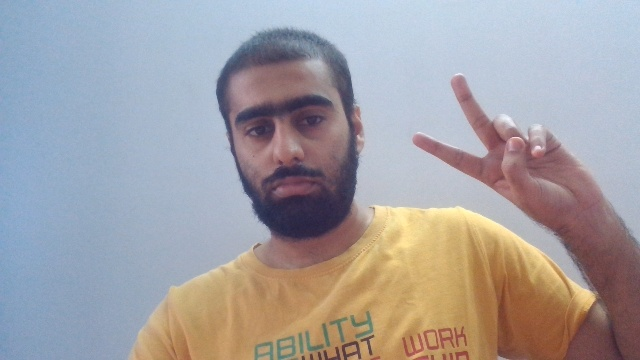scissors: (411, 72, 602, 232)
